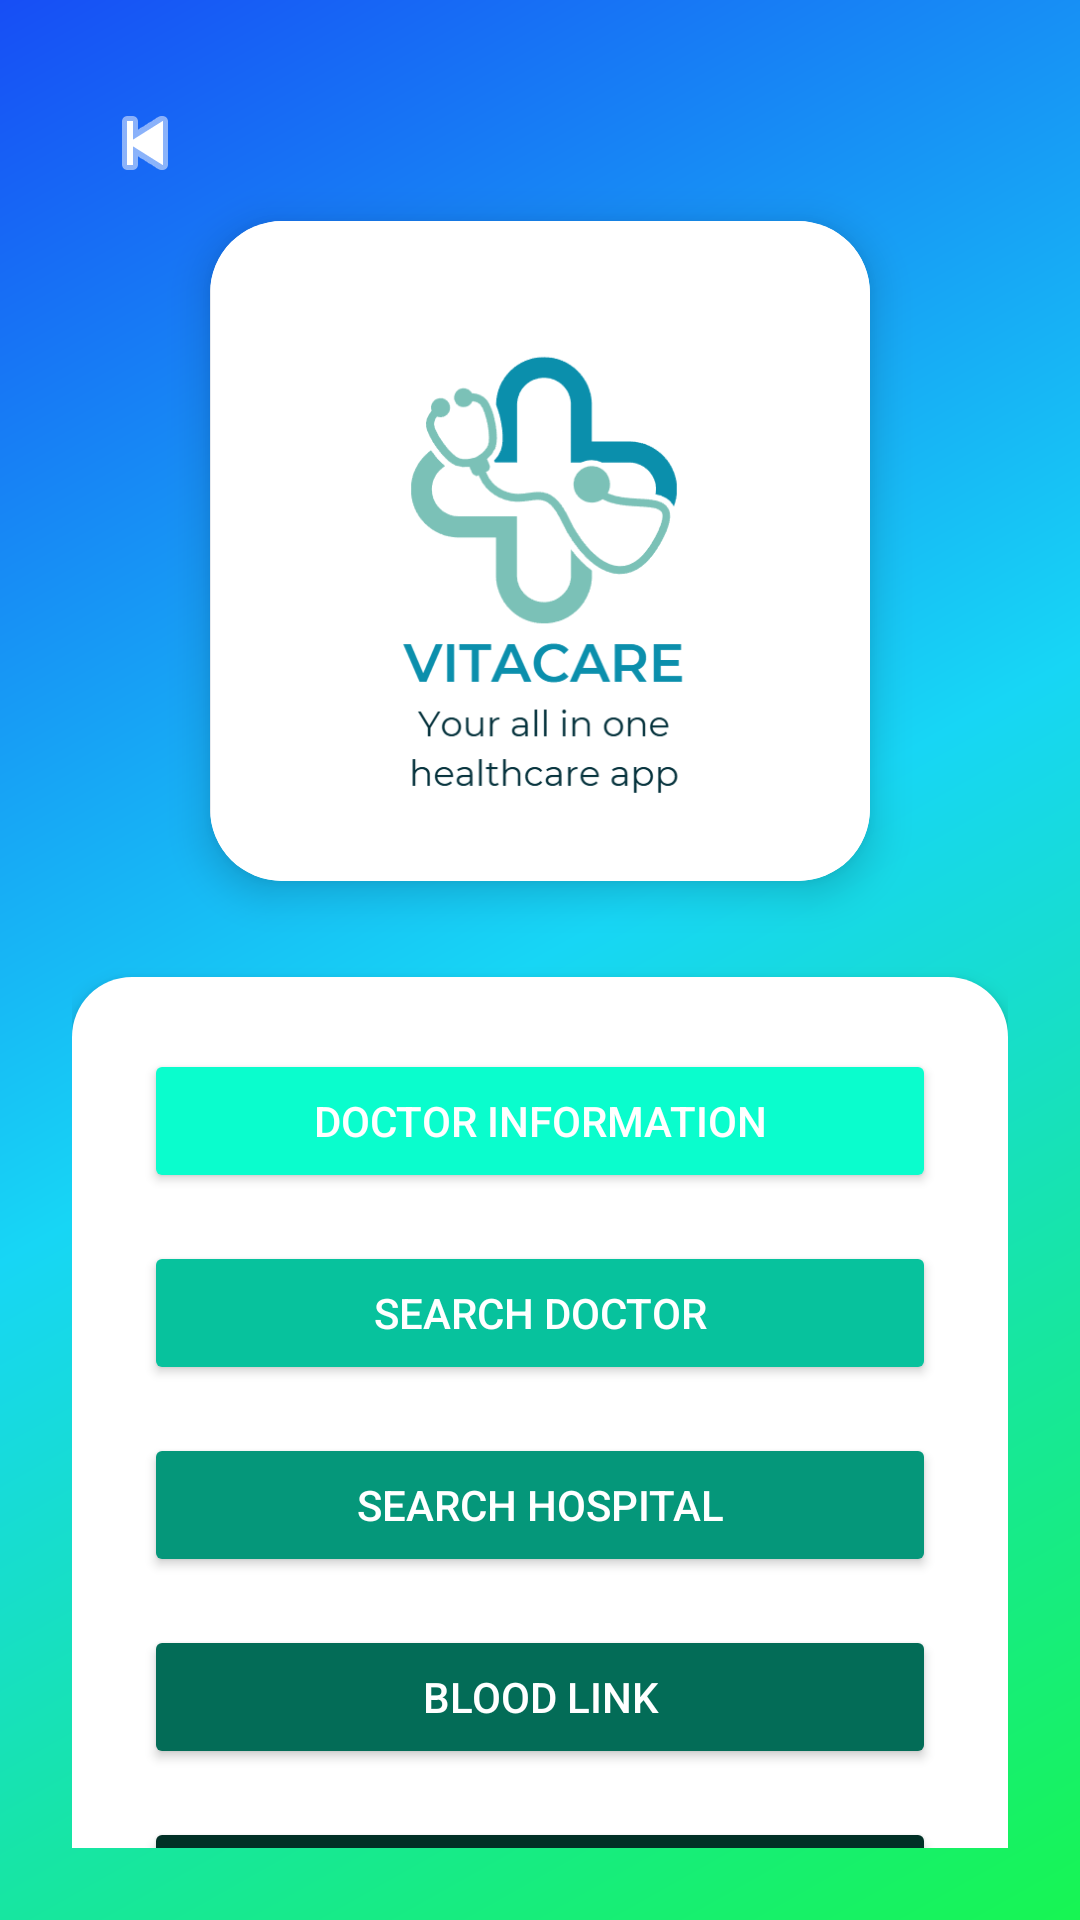

Icons on this 1080 x 1920 Android screen, each with the point to tap as (x,y):
Back: (145,143)
